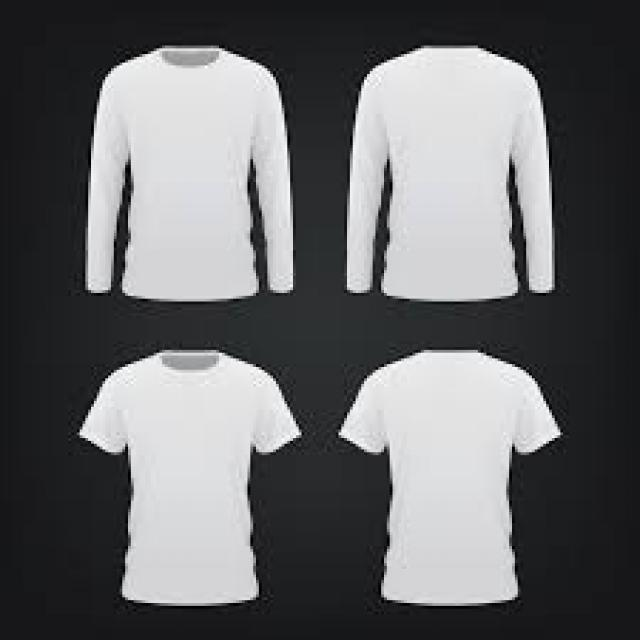Shirt: (43, 344, 306, 614), (322, 340, 571, 611)
